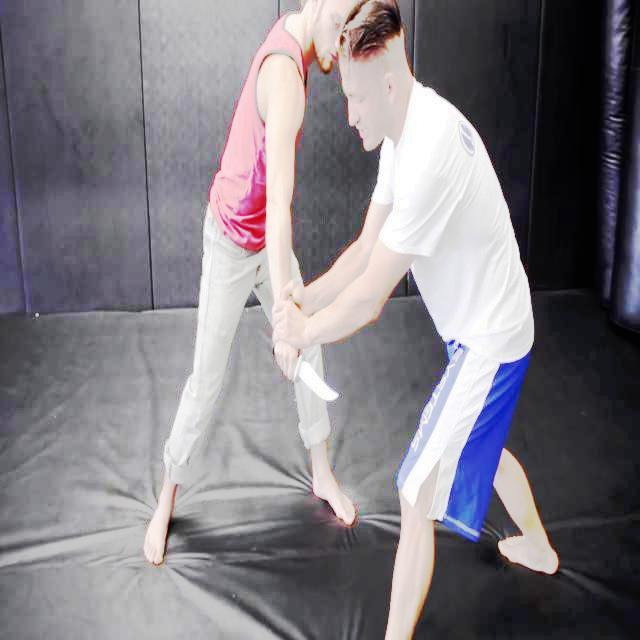Knife: (289, 362, 342, 408)
